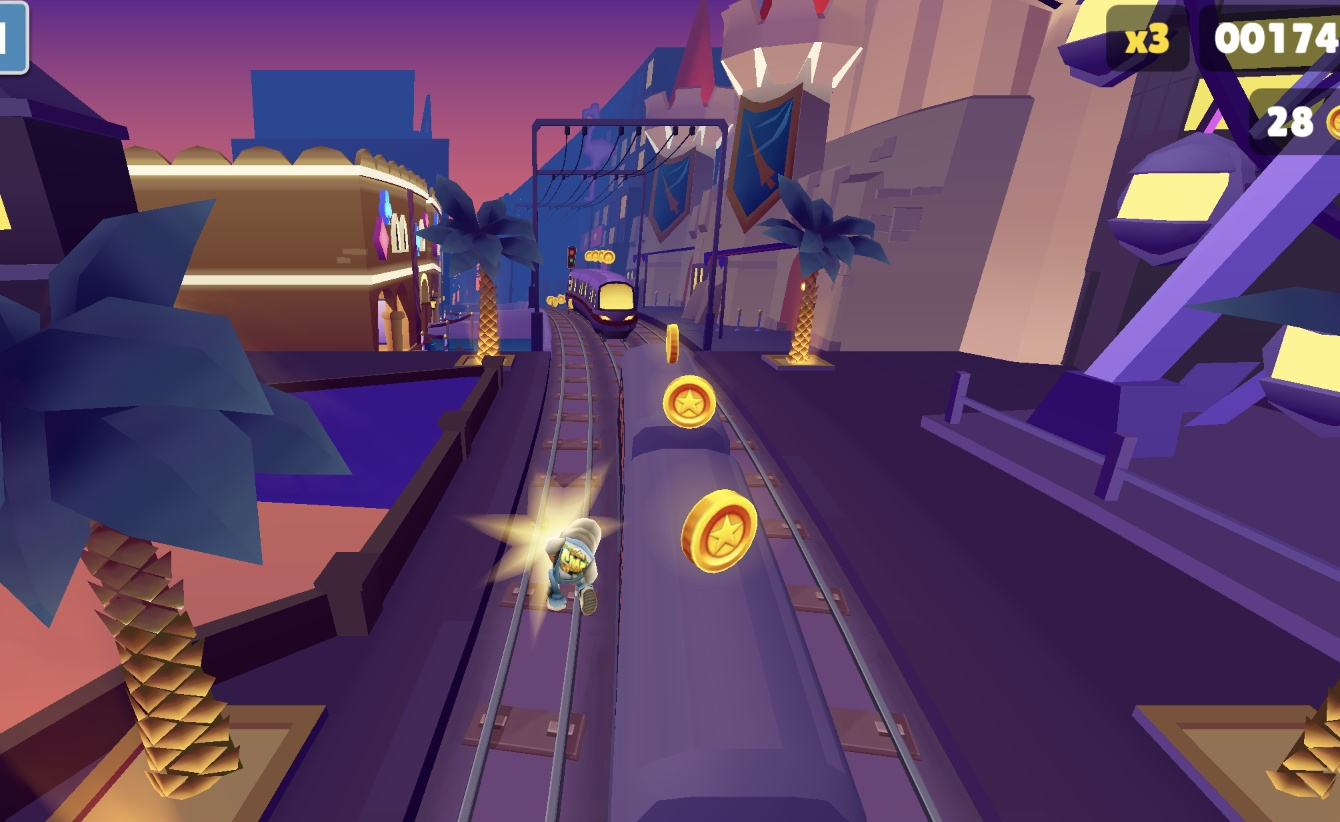train: (600, 409, 867, 822), (565, 270, 642, 342)
